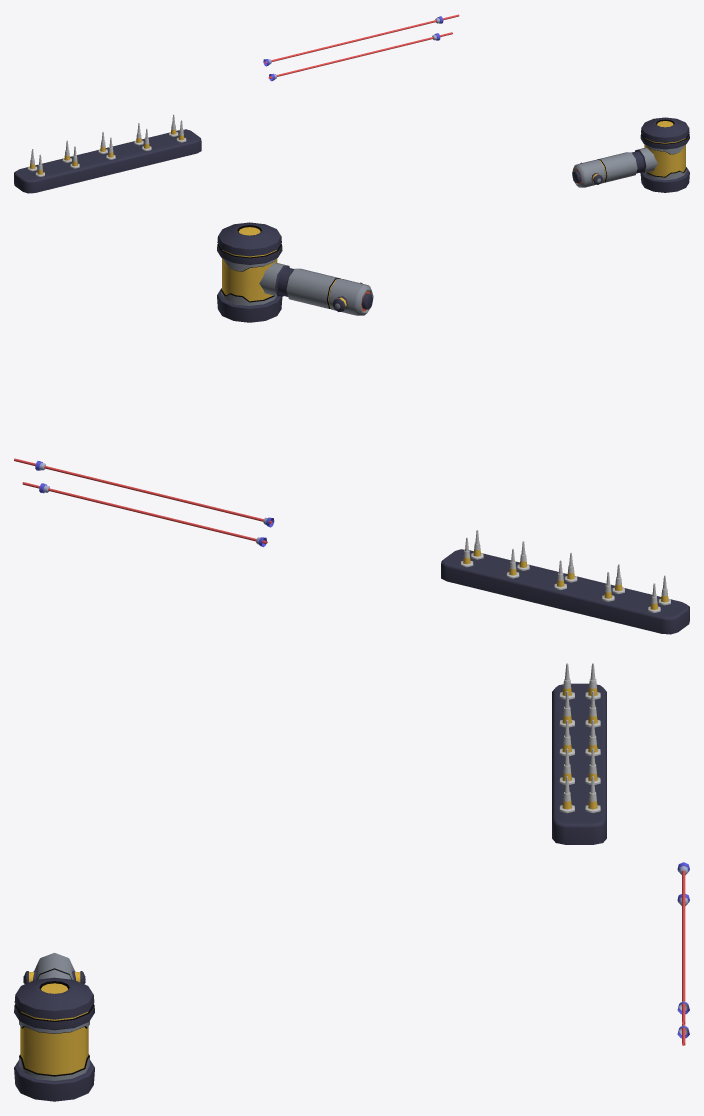
The model's file is Level17_Objects.fbx.
The picture shows the model from 3 angles, top to bottom: view 1: azimuth 30°, elevation 25°; view 2: azimuth 150°, elevation 25°; view 3: azimuth 270°, elevation 25°; orthographic projection. The views are drawn at different scales.
Parts seen in each view (by area): view 1: Base, pCylinder13, pCylinder14, Laser (×2); view 2: Base, pCylinder13, pCylinder14, Laser (×2); view 3: pCylinder13, Base, pCylinder14.
Part boxes in pixels (x1=…): Base: x1=14, y1=129, x2=201, y2=193; pCylinder13: x1=640, y1=117, x2=689, y2=192; pCylinder14: x1=572, y1=148, x2=657, y2=187; Laser (×2): x1=264, y1=14, x2=459, y2=78; Base: x1=441, y1=549, x2=689, y2=634; pCylinder13: x1=217, y1=222, x2=282, y2=322; pCylinder14: x1=259, y1=263, x2=373, y2=315; Laser (×2): x1=14, y1=458, x2=272, y2=543; pCylinder13: x1=14, y1=977, x2=94, y2=1101; Base: x1=552, y1=683, x2=606, y2=844; pCylinder14: x1=34, y1=953, x2=74, y2=979.
Size of the model in its own units: 288 by 34.53 by 202.
